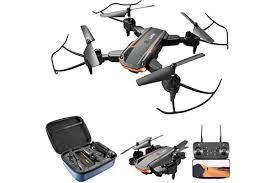drone: (42, 0, 241, 121)
